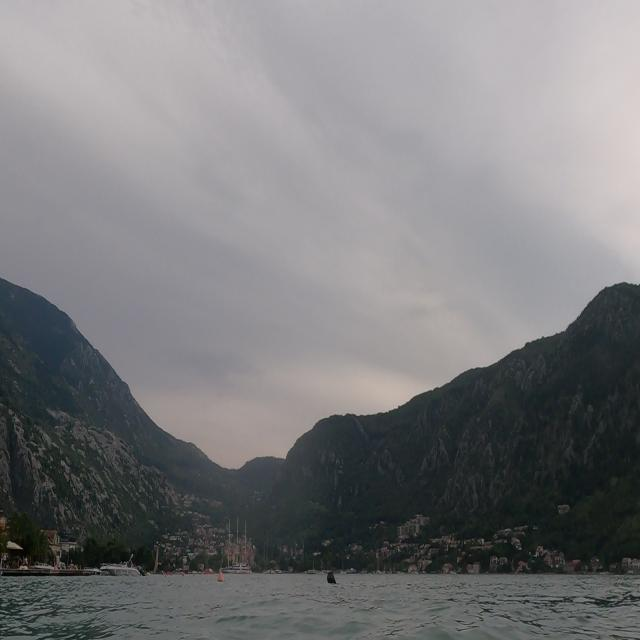buoy: (322, 561, 342, 593)
